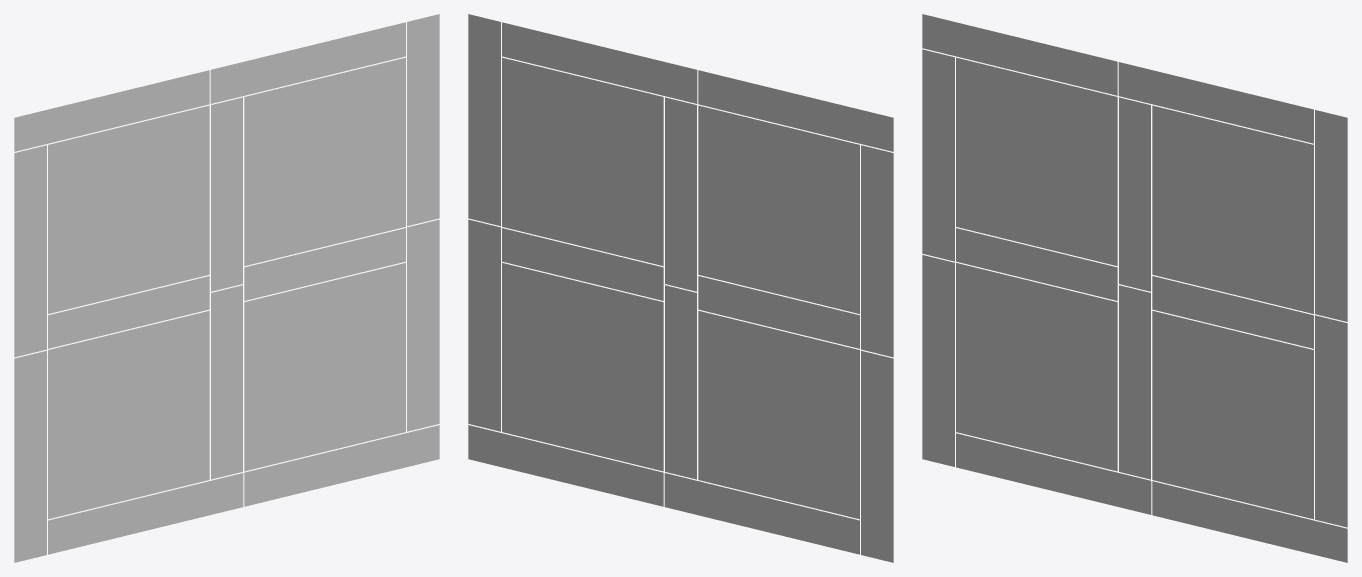
The picture shows the model from 3 angles, left to right: view 1: azimuth 30°, elevation 25°; view 2: azimuth 150°, elevation 25°; view 3: azimuth 330°, elevation 25°; orthographic projection.
Parts seen in each view (by area): view 1: po02; view 2: po02; view 3: po02.
Boxes of the visible parts, x1,y1,x2,y2 form: po02: (14, 14, 439, 562); po02: (468, 14, 893, 562); po02: (922, 14, 1347, 562).
Bounding box in the file's own units: 0.6096 × 0.6096 × 0.
16 materials, 16 textured.
